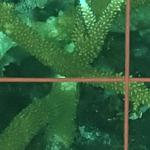alive: (4, 8, 148, 148)
